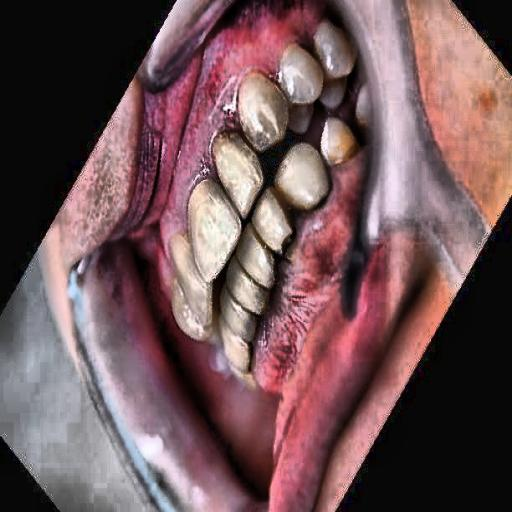Calculus: (234, 173, 331, 392)
